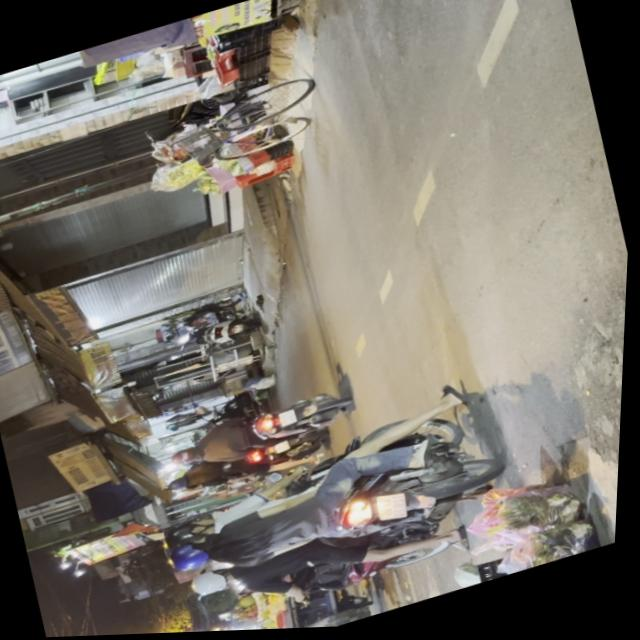helmet: (163, 508, 226, 552), (169, 534, 224, 576), (191, 564, 240, 599)
licenseplate: (147, 389, 517, 597)
nohelmet: (375, 492, 412, 526)
